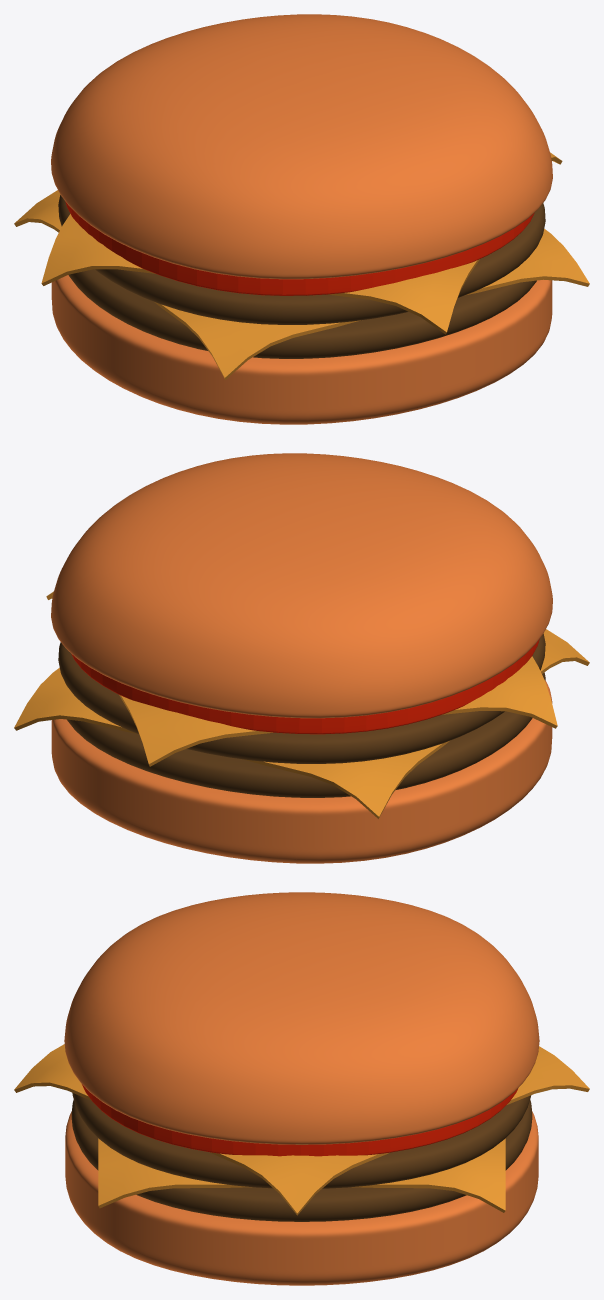
The model's file is hamburger.glb.
The picture shows the model from 3 angles, top to bottom: view 1: azimuth 30°, elevation 25°; view 2: azimuth 150°, elevation 25°; view 3: azimuth 270°, elevation 25°; orthographic projection. The views are drawn at different scales.
Visible parts, largest first — view 1: Cube.002, Cube, Cube.001, Cube.003, Plane, Cube.004, Plane.001; view 2: Cube.002, Cube, Cube.001, Cube.003, Plane, Plane.001, Cube.004; view 3: Cube.002, Cube, Cube.003, Cube.001, Plane.001, Plane, Cube.004.
Part boxes in pixels (x1,y1,x2,y2): Cube.002: (51,14,552,279); Cube: (51,275,552,424); Cube.001: (68,269,536,358); Cube.003: (58,195,545,324); Plane: (14,190,589,379); Cube.004: (65,201,534,295); Plane.001: (41,152,562,334); Cube.002: (51,453,552,718); Cube: (51,680,552,863); Cube.001: (67,672,545,797); Cube.003: (58,634,545,763); Plane: (14,629,589,818); Plane.001: (46,591,557,766); Cube.004: (71,639,539,734); Cube.002: (64,892,539,1144); Cube: (65,1111,538,1285); Cube.003: (72,1093,531,1188); Cube.001: (71,1099,532,1221); Plane.001: (14,1044,589,1215); Plane: (98,1138,505,1212); Cube.004: (82,1084,517,1156).
Bounding box in the file's own units: 11.18 × 5.56 × 11.18.
